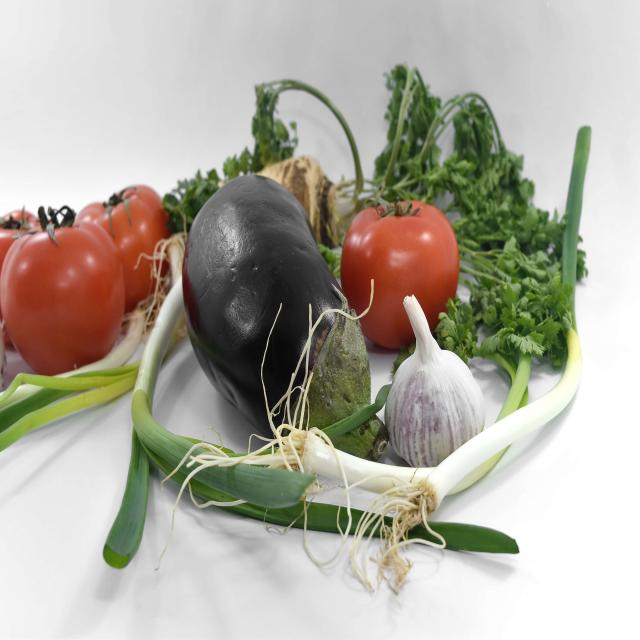eggplant: (189, 171, 392, 476)
garlic: (392, 313, 485, 484)
tomato: (4, 211, 120, 376), (341, 195, 461, 344), (86, 182, 170, 324)
